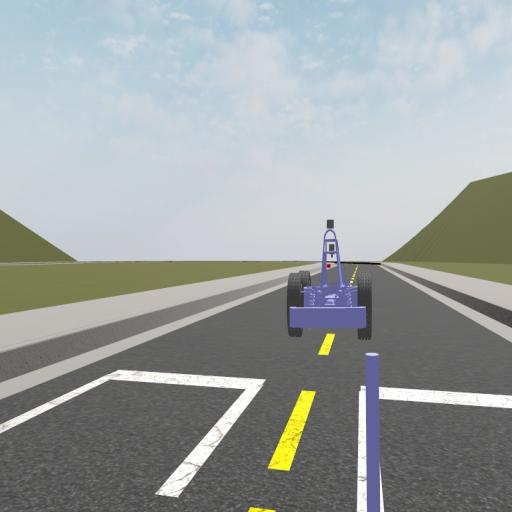ERP-42: (288, 218, 370, 339)
